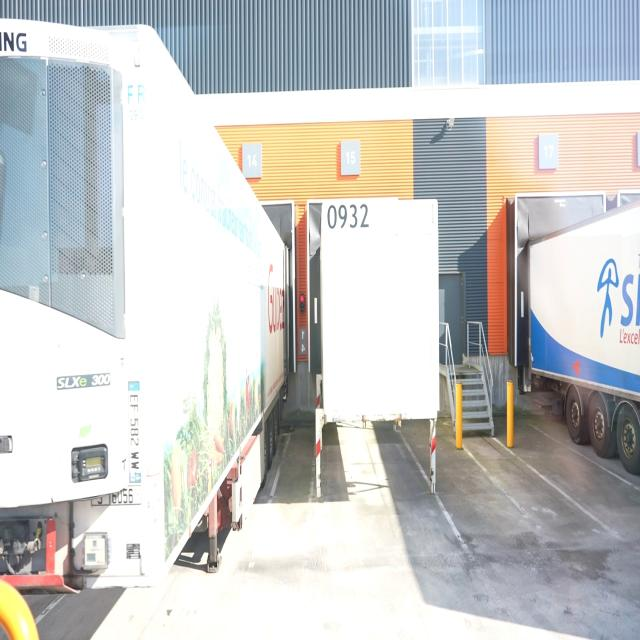Code: (325, 197, 373, 236)
